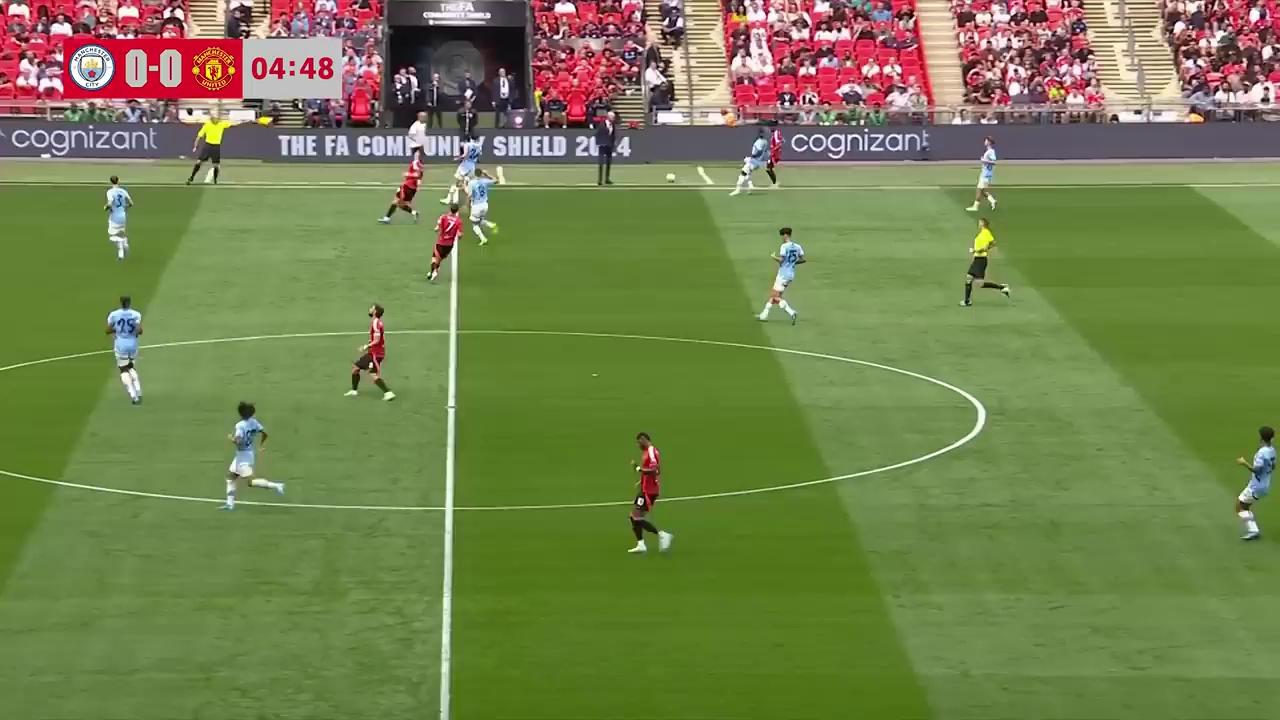player: (220, 400, 278, 509), (626, 430, 673, 556), (1234, 427, 1279, 541), (345, 303, 395, 400), (757, 229, 804, 325), (105, 294, 144, 406), (444, 138, 481, 216), (381, 157, 424, 224), (427, 203, 462, 281), (103, 175, 133, 260), (967, 136, 998, 212), (730, 132, 763, 195), (467, 172, 494, 245), (759, 132, 781, 189)
referee: (959, 216, 1010, 306), (187, 115, 222, 186)
